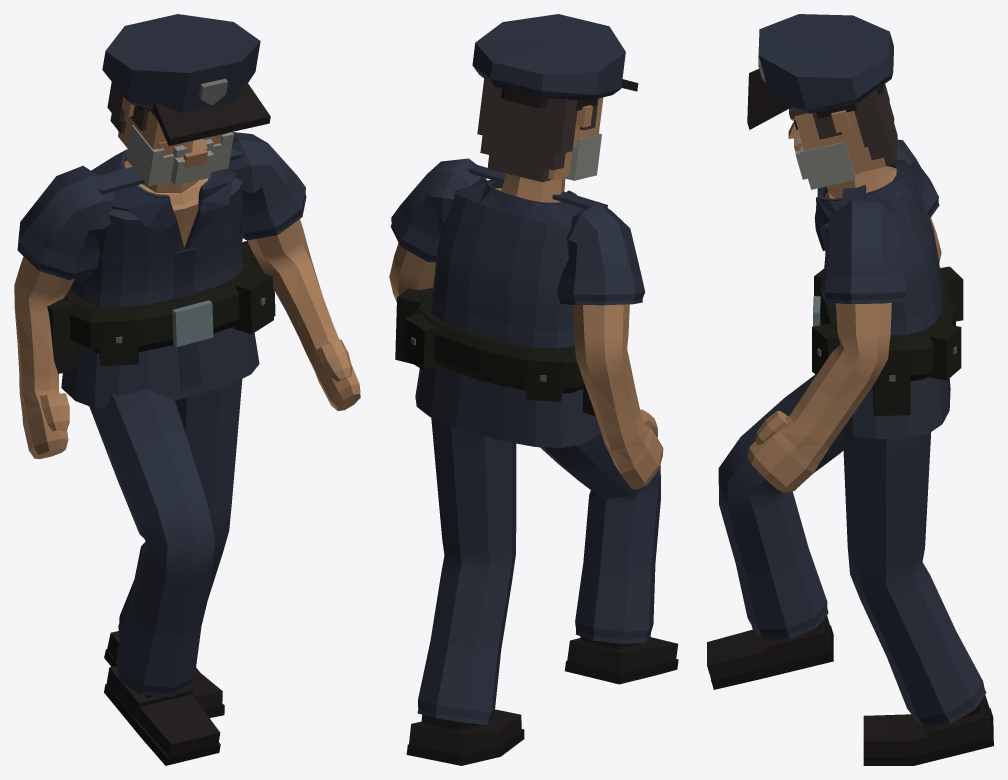
Rendered from police-officer-1cc379__walk3.glb.
The picture shows the model from 3 angles, left to right: view 1: azimuth 30°, elevation 25°; view 2: azimuth 150°, elevation 25°; view 3: azimuth 270°, elevation 25°; orthographic projection. The views are drawn at different scales.
Visible parts, largest first — view 1: police-officer-1cc379__walk3; view 2: police-officer-1cc379__walk3; view 3: police-officer-1cc379__walk3.
Part boxes in pixels (x1,y1,x2,y2): police-officer-1cc379__walk3: (14,14,360,765); police-officer-1cc379__walk3: (389,14,678,765); police-officer-1cc379__walk3: (707,14,993,765).
Bounding box in the file's own units: 0.7211 × 1.73 × 0.6492.
